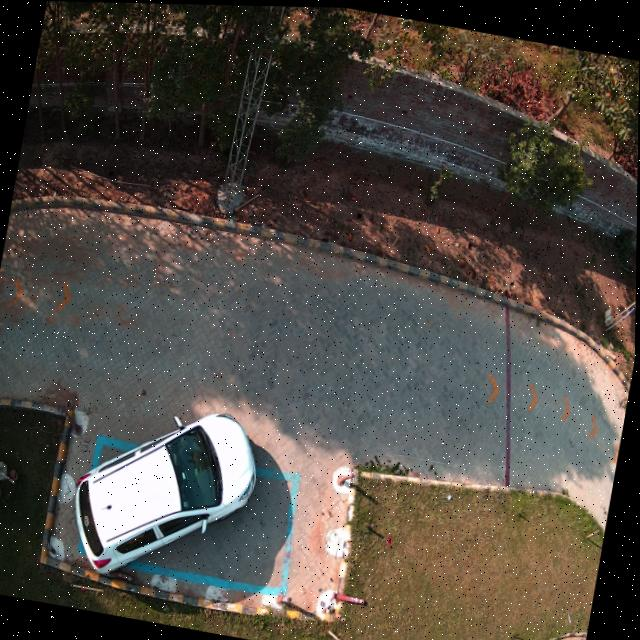car: (79, 413, 258, 574)
